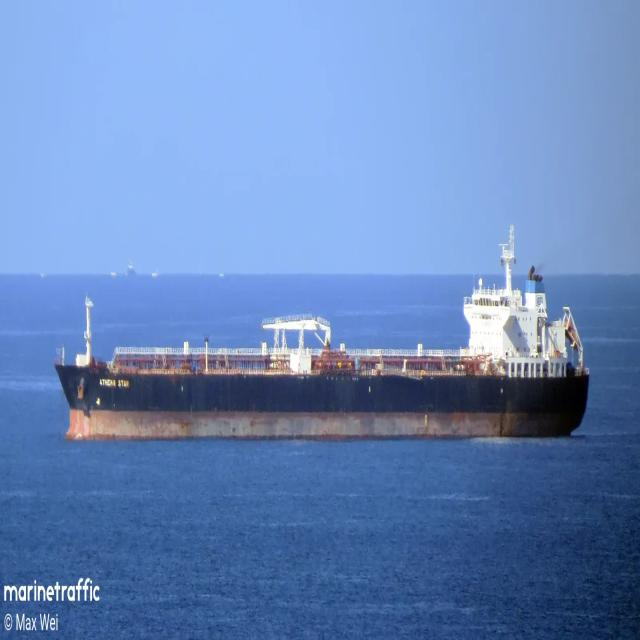Tanker: (54, 229, 590, 439)
